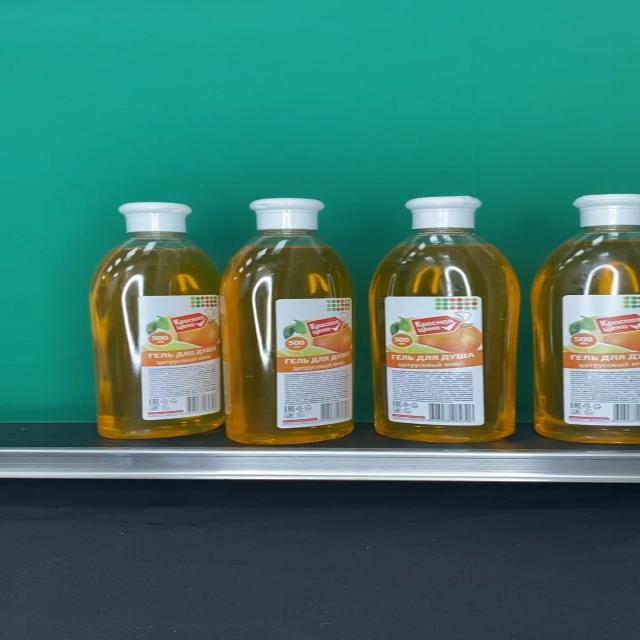Bottle: (368, 196, 522, 443), (222, 198, 354, 444), (90, 202, 224, 438)
Cap: (405, 196, 484, 230), (249, 198, 325, 231), (119, 202, 193, 234)
